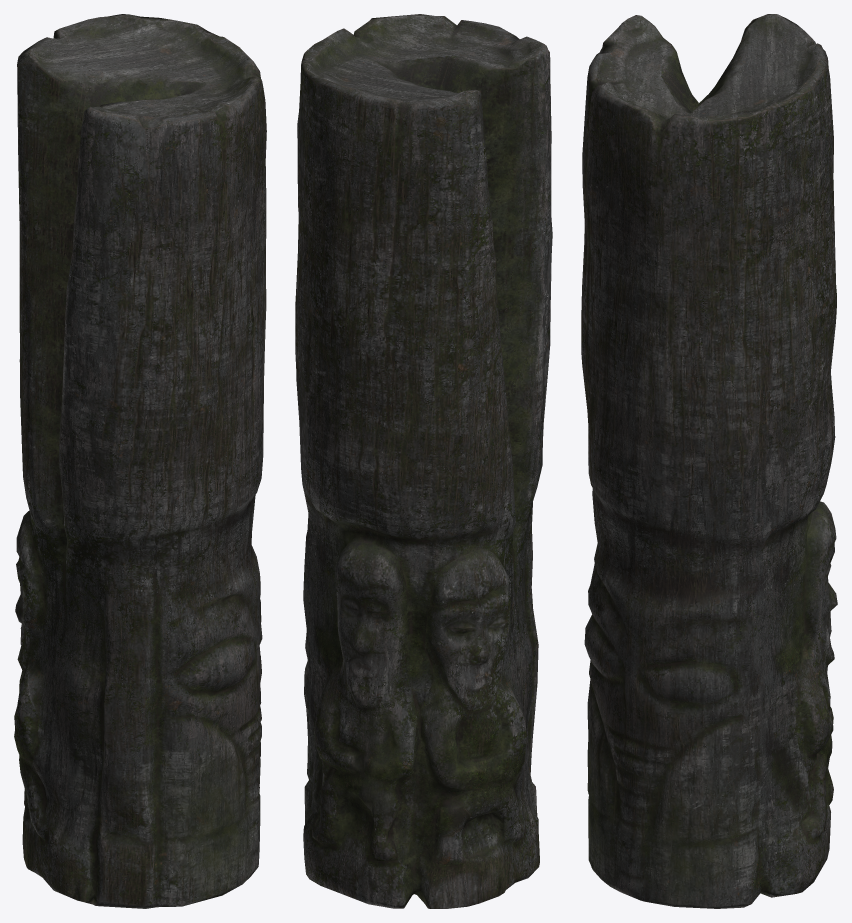
The model's file is SM_TrunkTotem.fbx.
3 views of the same model, side by side, from view 1: azimuth 30°, elevation 25°; view 2: azimuth 150°, elevation 25°; view 3: azimuth 270°, elevation 25° (orthographic).
Parts seen in each view (by area): view 1: SM_TrunkTotem_LOD0; view 2: SM_TrunkTotem_LOD0; view 3: SM_TrunkTotem_LOD0.
Part boxes in pixels (x1,y1,x2,y2): SM_TrunkTotem_LOD0: (14, 14, 266, 908); SM_TrunkTotem_LOD0: (295, 14, 552, 908); SM_TrunkTotem_LOD0: (581, 14, 837, 908).
Size of the model in its own units: 123 by 122 by 426.
